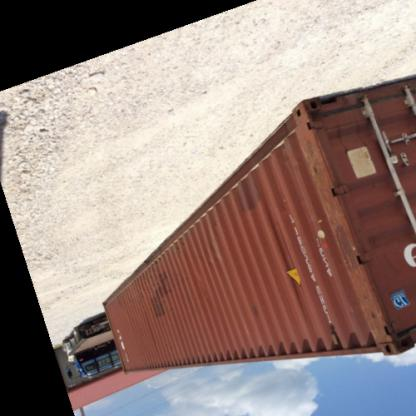Damage: (310, 142, 388, 328)
